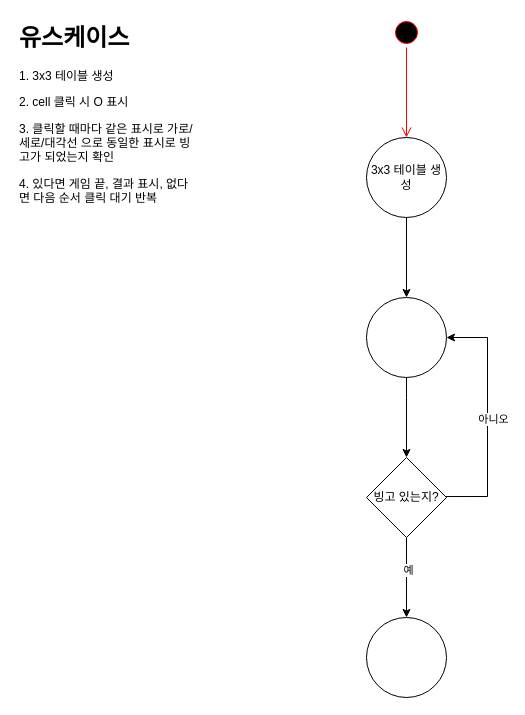
The diagram is 525 pixels wide and 715 high, and some of its shapes have lost their labels. Here are the shapes that lost their labels. From the top down, the centre of each, then its label:
At point (406, 337): "cell 클릭, O 혹은 X 표시".
At point (406, 657): "게임 끝".
